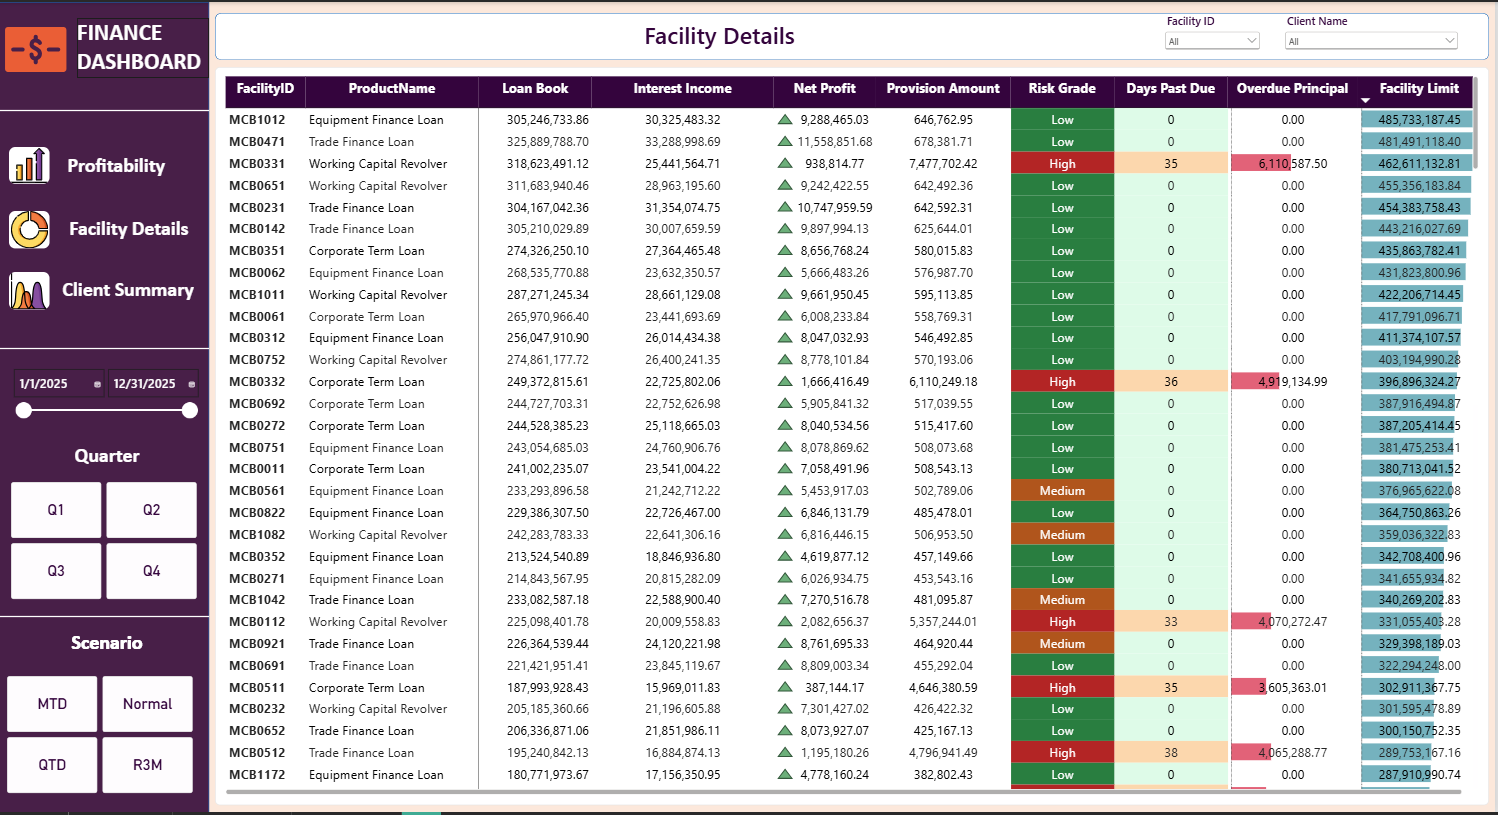

Layout of this report page (visuals, bound fields, positions):
{"tool":"powerbi","page":{"name":"Facility Details","canvas":[2400,1299],"ordinal":1},"visuals":[{"type":"shape","box":[0,0,337,1300],"z":0},{"type":"shape","box":[346.4,17.6,2043.1,75.4],"z":0,"group":"g1"},{"type":"textbox","box":[446.8,26.5,1416.1,56.1],"z":1000,"group":"g1"},{"type":"textbox","box":[0,998.7,346.5,49],"z":1000},{"type":"image","box":[6.8,16.9,104.8,116.6],"z":2000},{"type":"slicer","fields":{"Values":["Fact_Banking_Monthly.FacilityID"]},"box":[1865.1,17.6,162,86.6],"z":2000,"group":"g1"},{"type":"group","id":"g1","title":"Group 1","box":[346.4,17.6,2043.1,86.6],"z":3000},{"type":"slicer","fields":{"Values":["Dim_Client.ClientName"]},"box":[2057.6,17.6,287.1,86.6],"z":3000,"group":"g1"},{"type":"shape","box":[0,161,337,27.3],"z":4000},{"type":"pivotTable","fields":{"Rows":["Fact_Banking_Monthly.FacilityID","Dim_Product.ProductName"],"Values":["Z_Measures.Loan Book 1","Z_Measures.Interest Income","Z_Measures.Net Profit","Z_Measures.Provision Amount","Z_Measures.Current Risk Grade","Z_Measures.Current Days Past Due","Z_Measures.Current Overdue Principal","Z_Measures.Current Facility Limit"]},"box":[346.4,104.2,2043.1,1183.5],"z":5000},{"type":"image","box":[28.2,231.9,65.2,59.4],"z":6000},{"type":"image","box":[29.3,335.5,65,60],"z":7000},{"type":"image","box":[29.3,433.4,65,60],"z":8000},{"type":"textbox","box":[118.6,238.7,161,59.4],"z":9000},{"type":"textbox","box":[107.1,340.3,224.3,59.4],"z":10000},{"type":"textbox","box":[106.3,438.2,224.7,59.4],"z":11000},{"type":"shape","box":[0,542.5,337,27.3],"z":12000},{"type":"advancedSlicerVisual","fields":{"Values":["Dim_date.Quarter"]},"box":[19.2,770.4,299,189.8],"z":13000},{"type":"textbox","box":[0,998.7,346.5,49],"z":14000},{"type":"shape","box":[0,971.8,337,27.3],"z":15000},{"type":"textbox","box":[0,699.4,346.5,49],"z":16000},{"type":"advancedSlicerVisual","fields":{"Values":["Calculation Group.Time Period"]},"box":[13.4,1081.2,299,189.8],"z":17000},{"type":"textbox","box":[124.9,25,211.5,96.6],"z":18000},{"type":"slicer","fields":{"Values":["Dim_date.Date"]},"box":[16,583.7,305.9,89.6],"z":19000},{"type":"shape","box":[0,335.2,28.9,62.5],"z":20000}]}

Visuals, with their boxes on the page's 2400x1299 design canvas (x1, y1, x2, y2). These are canvas units, not pixel positions in the 1498x815 screenshot, which may show the page scaled, cropped or inside an application window:
shape: {"x1": 0, "y1": 0, "x2": 337, "y2": 1300}
shape: {"x1": 346, "y1": 18, "x2": 2390, "y2": 93}
textbox: {"x1": 447, "y1": 26, "x2": 1863, "y2": 83}
textbox: {"x1": 0, "y1": 999, "x2": 346, "y2": 1048}
image: {"x1": 7, "y1": 17, "x2": 112, "y2": 134}
slicer - Fact_Banking_Monthly.FacilityID: {"x1": 1865, "y1": 18, "x2": 2027, "y2": 104}
"Group 1" group: {"x1": 346, "y1": 18, "x2": 2390, "y2": 104}
slicer - Dim_Client.ClientName: {"x1": 2058, "y1": 18, "x2": 2345, "y2": 104}
shape: {"x1": 0, "y1": 161, "x2": 337, "y2": 188}
pivotTable - Fact_Banking_Monthly.FacilityID x Dim_Product.ProductName: {"x1": 346, "y1": 104, "x2": 2390, "y2": 1288}
image: {"x1": 28, "y1": 232, "x2": 93, "y2": 291}
image: {"x1": 29, "y1": 336, "x2": 94, "y2": 396}
image: {"x1": 29, "y1": 433, "x2": 94, "y2": 493}
textbox: {"x1": 119, "y1": 239, "x2": 280, "y2": 298}
textbox: {"x1": 107, "y1": 340, "x2": 331, "y2": 400}
textbox: {"x1": 106, "y1": 438, "x2": 331, "y2": 498}
shape: {"x1": 0, "y1": 542, "x2": 337, "y2": 570}
advancedSlicerVisual - Dim_date.Quarter: {"x1": 19, "y1": 770, "x2": 318, "y2": 960}
textbox: {"x1": 0, "y1": 999, "x2": 346, "y2": 1048}
shape: {"x1": 0, "y1": 972, "x2": 337, "y2": 999}
textbox: {"x1": 0, "y1": 699, "x2": 346, "y2": 748}
advancedSlicerVisual - Calculation Group.Time Period: {"x1": 13, "y1": 1081, "x2": 312, "y2": 1271}
textbox: {"x1": 125, "y1": 25, "x2": 336, "y2": 122}
slicer - Dim_date.Date: {"x1": 16, "y1": 584, "x2": 322, "y2": 673}
shape: {"x1": 0, "y1": 335, "x2": 29, "y2": 398}
